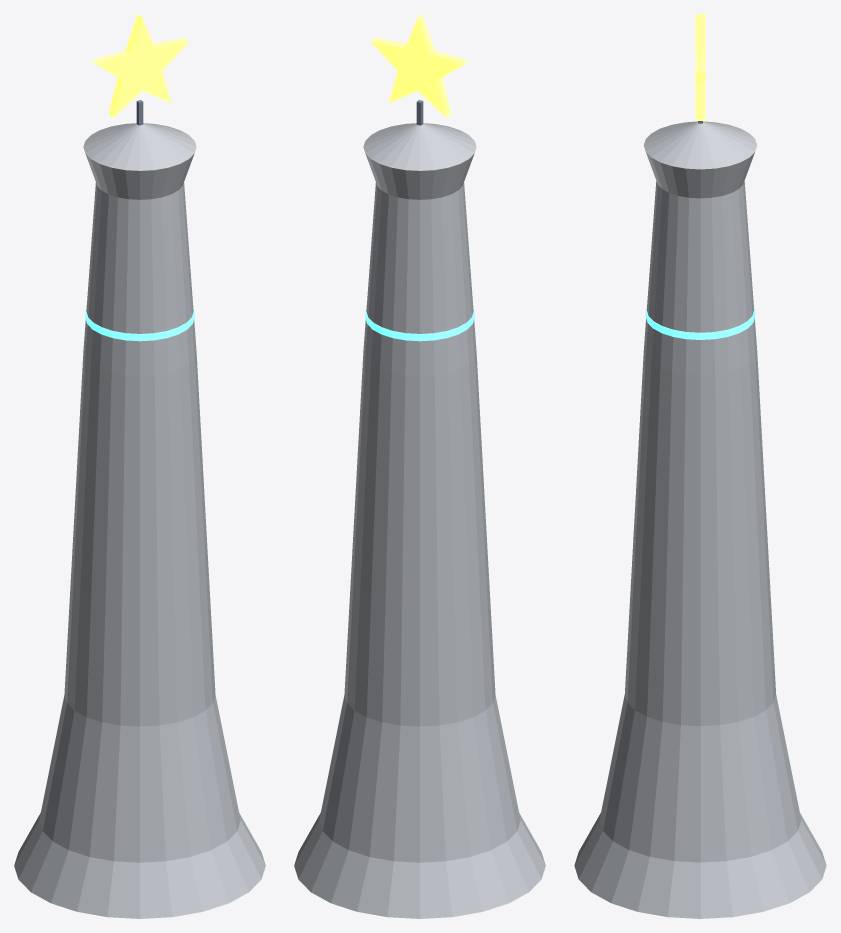
The model's file is star_tower.glb.
3 renders of one model, left to right at view 1: azimuth 30°, elevation 25°; view 2: azimuth 150°, elevation 25°; view 3: azimuth 270°, elevation 25°, orthographic.
Parts seen in each view (by area): view 1: LOD0; view 2: LOD0; view 3: LOD0.
Boxes of the visible parts, x1=… form: LOD0: x1=14, y1=14, x2=265, y2=918; LOD0: x1=294, y1=14, x2=545, y2=918; LOD0: x1=574, y1=14, x2=826, y2=918.
Size of what is drawn, in the model's own units: 40 by 149 by 40.
